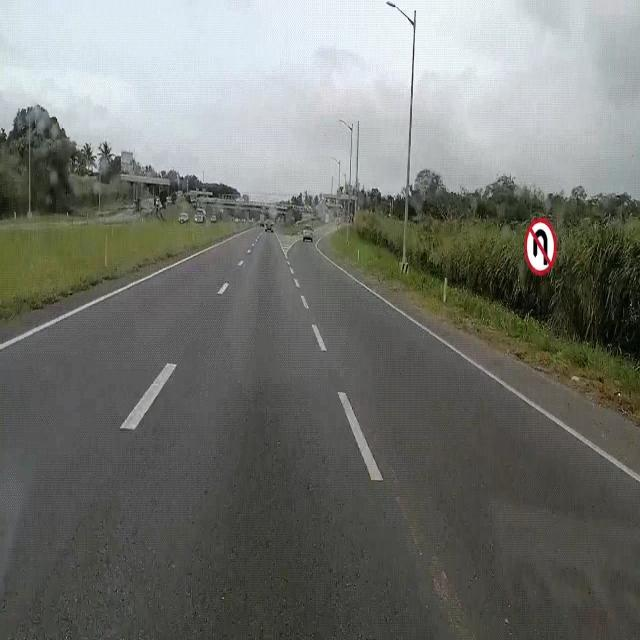Demi-Tour-Interdit: (520, 211, 560, 285)
